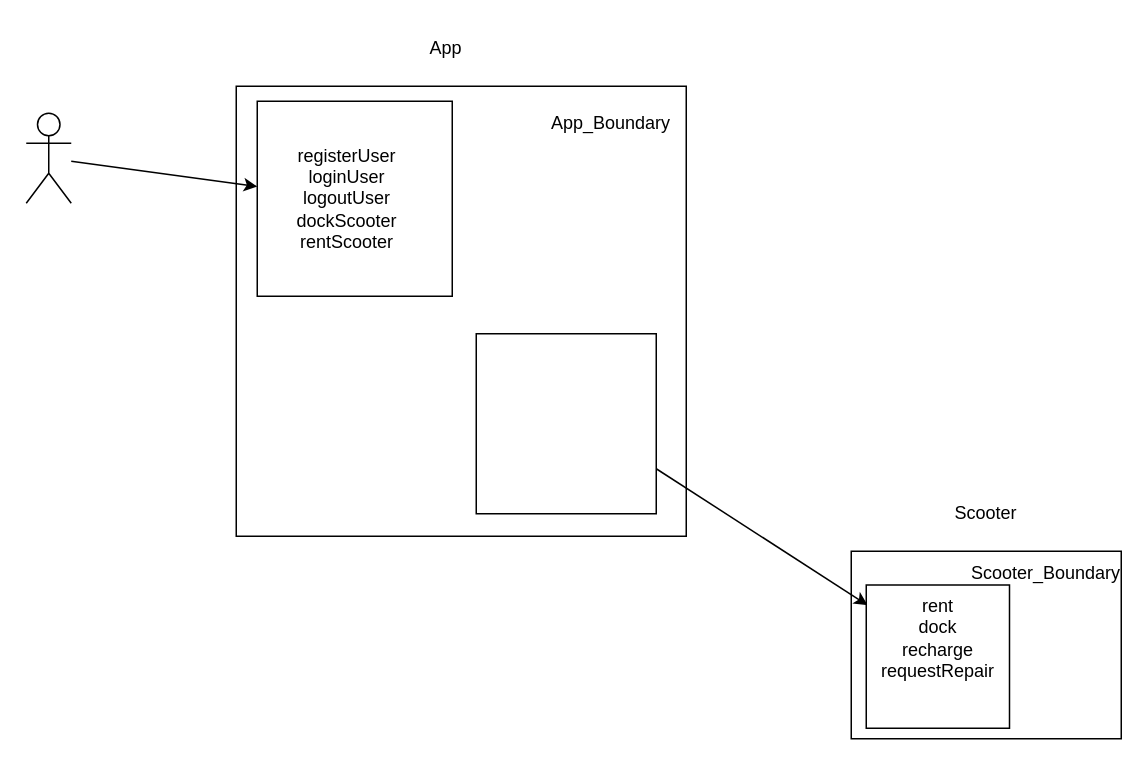
The diagram is 1148 pixels wide and 765 high, and some of its shapes have lost their labels. The shapes that lost their labels are listed below. From the top down, each one's centre as x and y in pixels, then its label:
At [48,157]: "Actor".
At [565,423]: "dockScooter createScooter rentScooter".
